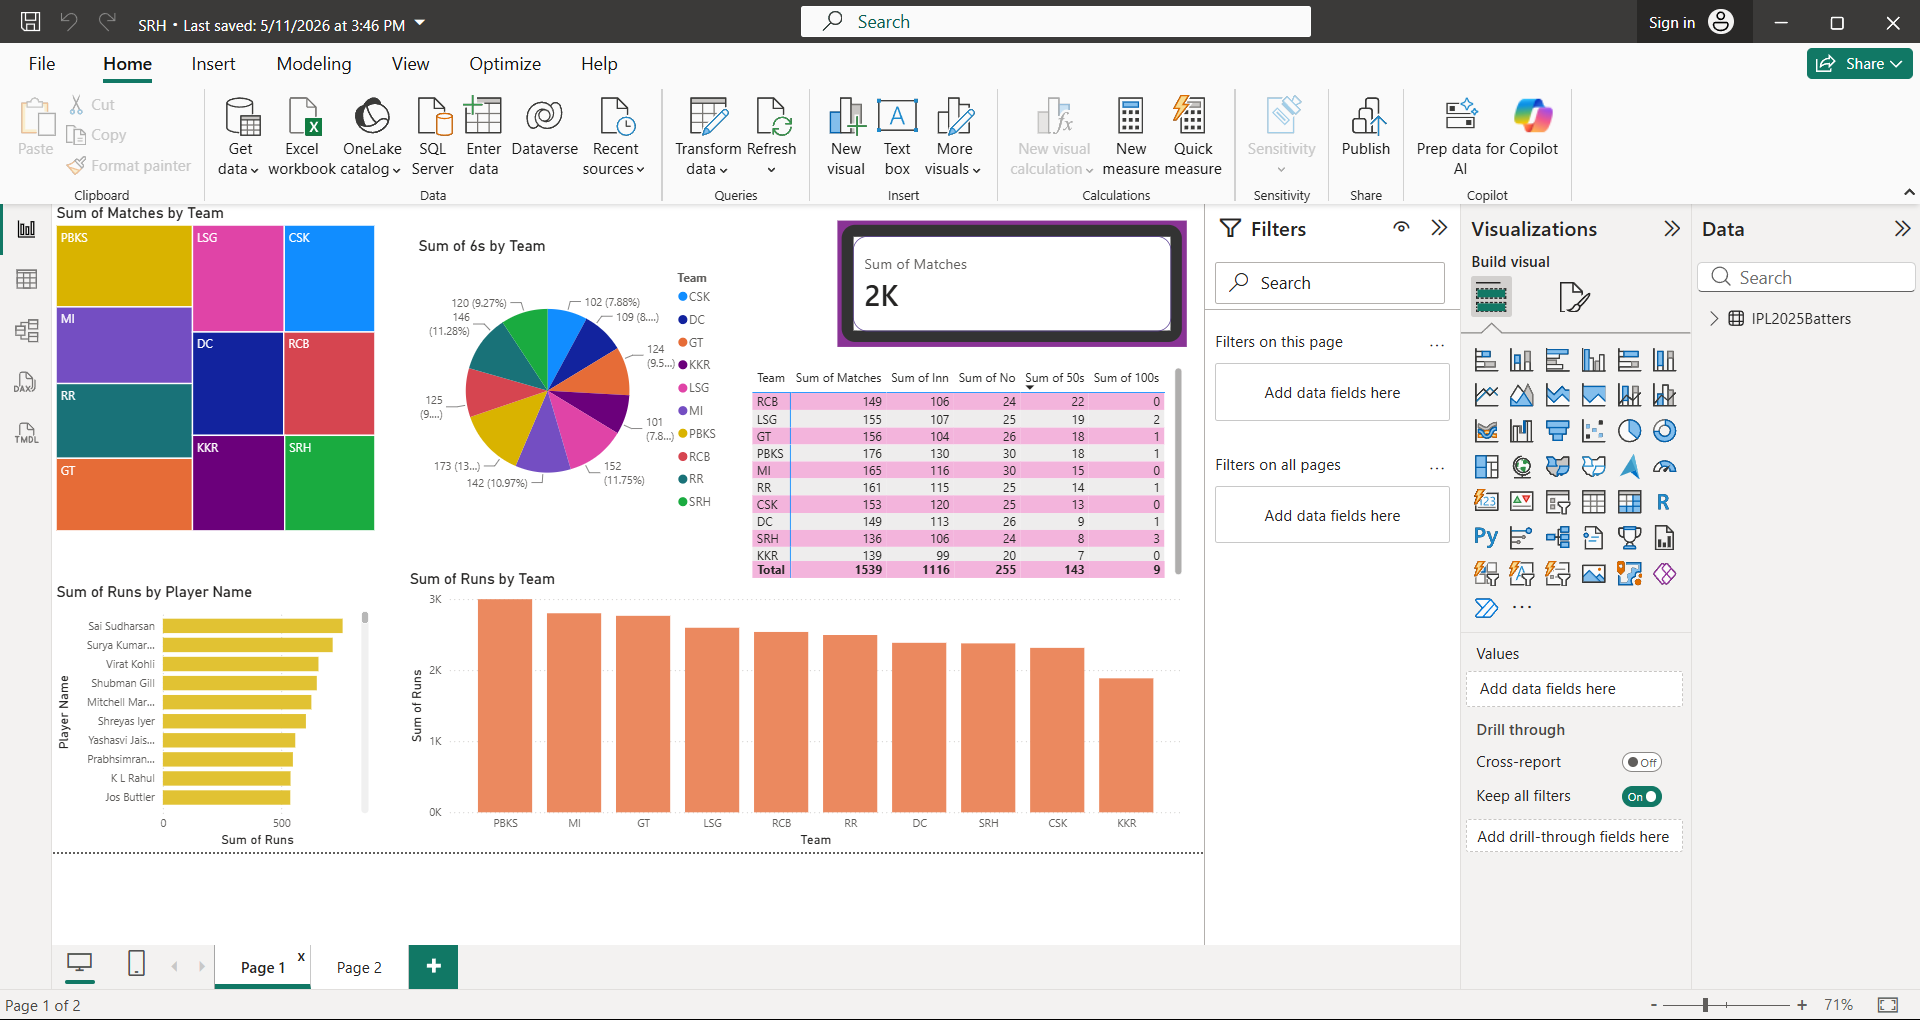

What the dashboard file says about the page in this screenshot:
{"tool":"powerbi","page":{"name":"Page 1","canvas":[1280,720],"ordinal":0},"visuals":[{"type":"clusteredBarChart","fields":{"Category":["IPL2025Batters.Player Name"],"Y":["Sum(IPL2025Batters.Runs)"]},"box":[0,420.8,357,298.9],"z":1},{"type":"clusteredColumnChart","fields":{"Category":["IPL2025Batters.Team"],"Y":["Sum(IPL2025Batters.Runs)"]},"box":[392.4,406.6,868.4,313.1],"z":2},{"type":"pieChart","fields":{"Series":["IPL2025Batters.Team"],"Y":["Sum(IPL2025Batters.6s)"]},"box":[402.3,36.8,351.3,323],"z":3},{"type":"treemap","fields":{"Details":["IPL2025Batters.Team"],"Values":["Sum(IPL2025Batters.Matches)"]},"box":[0,0,364.1,368.3],"z":4},{"type":"cardVisual","fields":{"Data":["Sum(IPL2025Batters.Matches)"]},"box":[872.7,18.4,388.2,140.3],"z":5},{"type":"pivotTable","fields":{"Values":["Sum(IPL2025Batters.Matches)","Sum(IPL2025Batters.Inn)","Sum(IPL2025Batters.No)","Sum(IPL2025Batters.50s)","Sum(IPL2025Batters.100s)"],"Rows":["IPL2025Batters.Team"]},"box":[773.5,177.1,487.3,243.7],"z":6}]}

Visuals, with their boxes on the page's 1280x720 design canvas (x1, y1, x2, y2). These are canvas units, not pixel positions in the 1920x1020 screenshot, which may show the page scaled, cropped or inside an application window:
clusteredBarChart - IPL2025Batters.Player Name x Sum(IPL2025Batters.Runs): Rect(0, 421, 357, 720)
clusteredColumnChart - IPL2025Batters.Team x Sum(IPL2025Batters.Runs): Rect(392, 407, 1261, 720)
pieChart - IPL2025Batters.Team x Sum(IPL2025Batters.6s): Rect(402, 37, 754, 360)
treemap - IPL2025Batters.Team x Sum(IPL2025Batters.Matches): Rect(0, 0, 364, 368)
cardVisual - Sum(IPL2025Batters.Matches): Rect(873, 18, 1261, 159)
pivotTable - Sum(IPL2025Batters.Matches) x Sum(IPL2025Batters.Inn): Rect(774, 177, 1261, 421)
